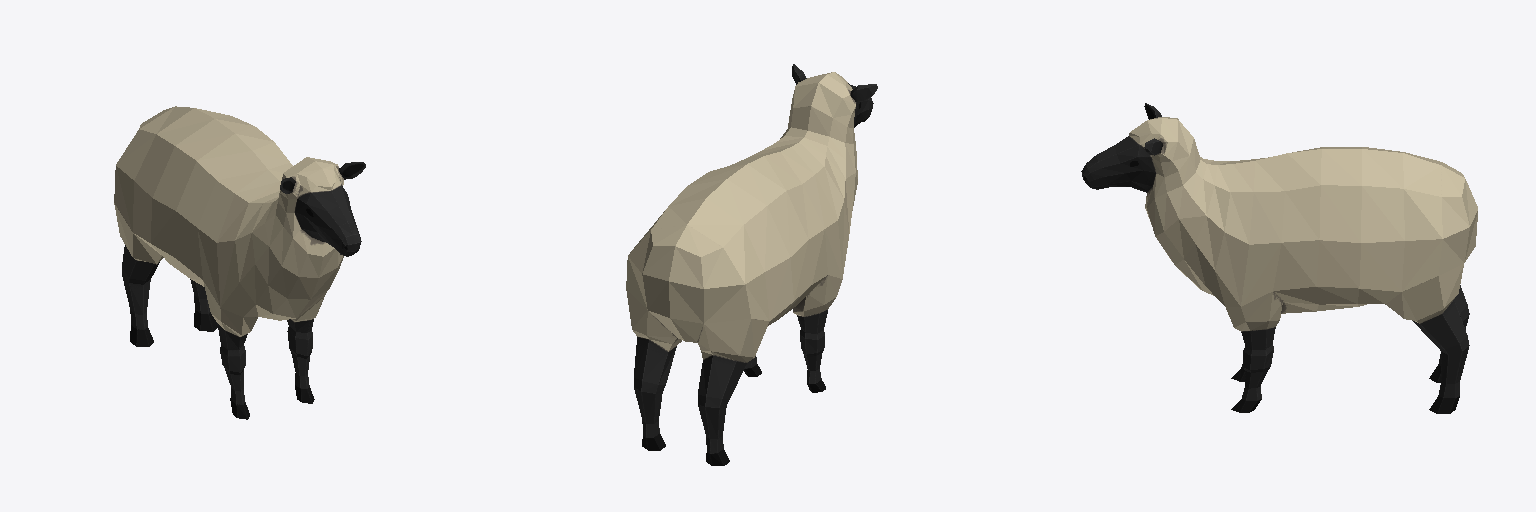
The picture shows the model from 3 angles: view 1: azimuth 30°, elevation 25°; view 2: azimuth 150°, elevation 25°; view 3: azimuth 270°, elevation 25°; orthographic projection.
Parts seen in each view (by area): view 1: Sheep_mesh; view 2: Sheep_mesh; view 3: Sheep_mesh.
Boxes of the visible parts, box(x1,y1,x2,y2) form: Sheep_mesh: box(114, 106, 365, 419); Sheep_mesh: box(626, 64, 877, 465); Sheep_mesh: box(1081, 103, 1477, 413).
Bounding box in the file's own units: 2.46 × 4.93 × 6.42.
Materials: 1 (1 with a texture image).